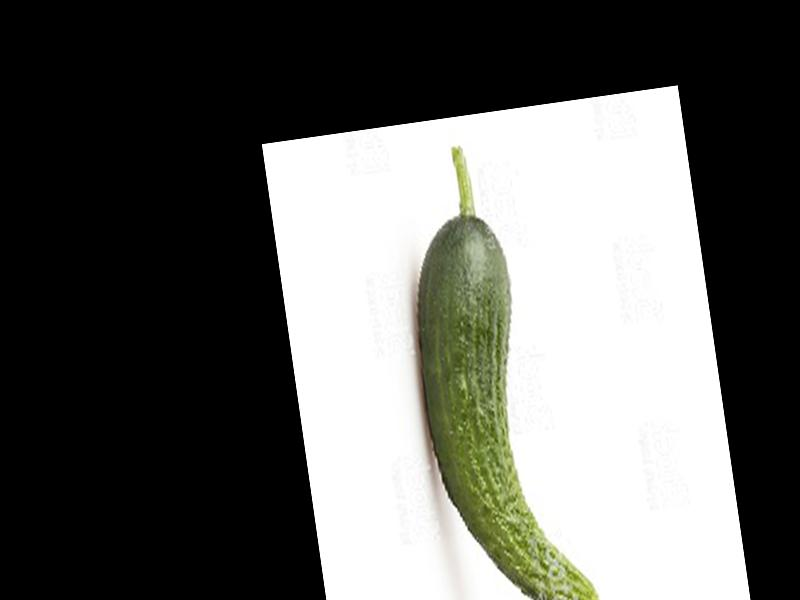Cucumber: (390, 135, 600, 600)
